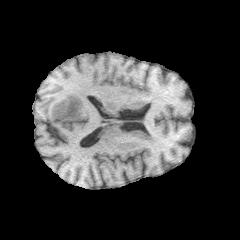glioma: (39, 94, 83, 120)
